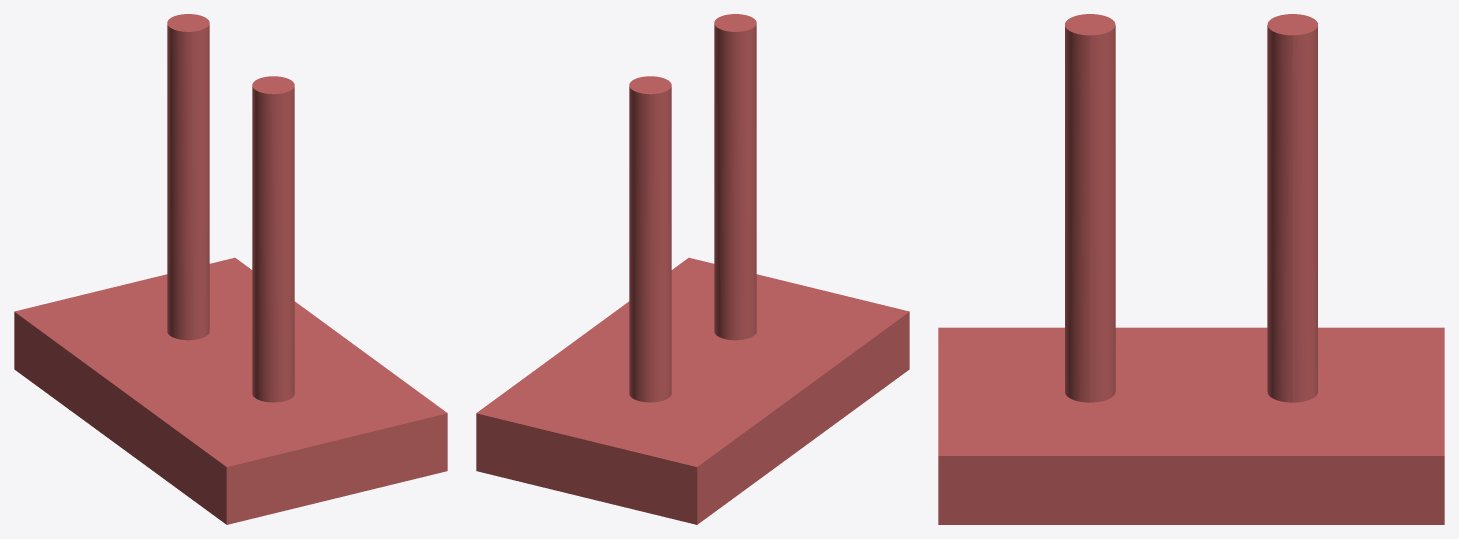
The model's file is bridge1_piers.obj.
The picture shows the model from 3 angles, left to right: view 1: azimuth 30°, elevation 25°; view 2: azimuth 150°, elevation 25°; view 3: azimuth 270°, elevation 25°; orthographic projection. The views are drawn at different scales.
Parts seen in each view (by area): view 1: mesh_0; view 2: mesh_0; view 3: mesh_0.
Boxes of the visible parts, x1,y1,x2,y2 form: mesh_0: (14,14,447,524); mesh_0: (476,14,909,524); mesh_0: (938,14,1444,524).
Size of the model in its own units: 6 by 9.5 by 10.
